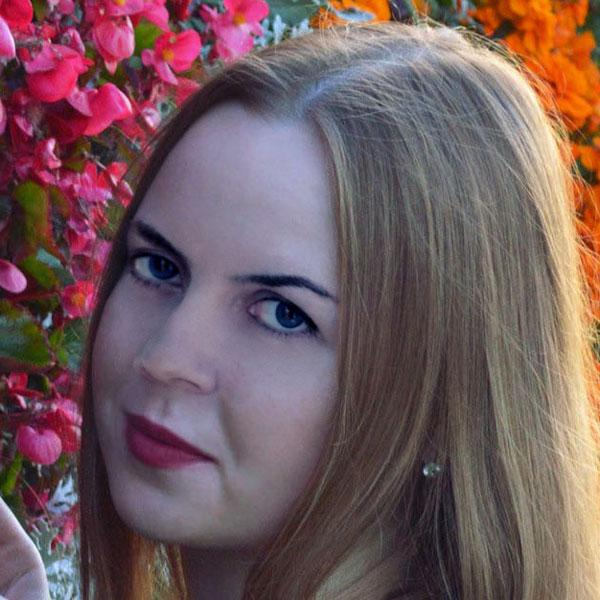Eyes: (232, 278, 321, 346), (122, 238, 191, 301)
